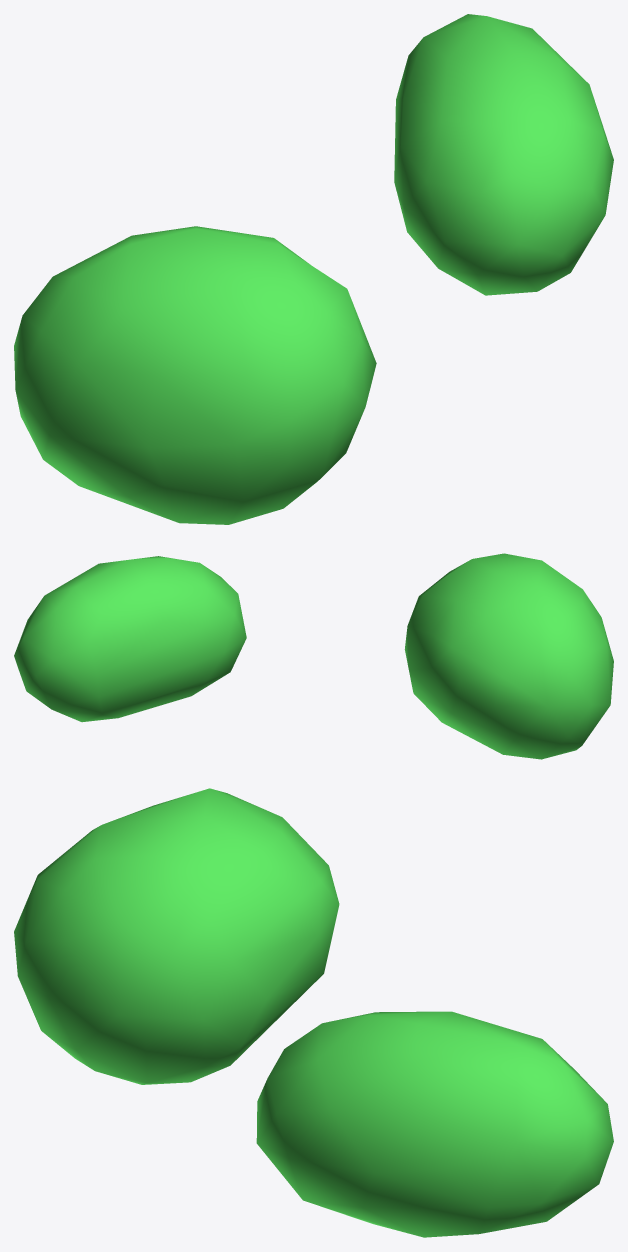
Rendered from SM_town_potato.fbx.
The picture shows the model from 3 angles, top to bottom: view 1: azimuth 30°, elevation 25°; view 2: azimuth 150°, elevation 25°; view 3: azimuth 270°, elevation 25°; orthographic projection. The views are drawn at different scales.
Visible parts, largest first — view 1: potatoto_low; view 2: potatoto_low; view 3: potatoto_low.
Boxes of the visible parts, x1=… form: potatoto_low: x1=14, y1=14, x2=613, y2=524; potatoto_low: x1=14, y1=553, x2=613, y2=759; potatoto_low: x1=14, y1=788, x2=613, y2=1237.
Bounding box in the file's own units: 41.4 × 15.13 × 32.06.
